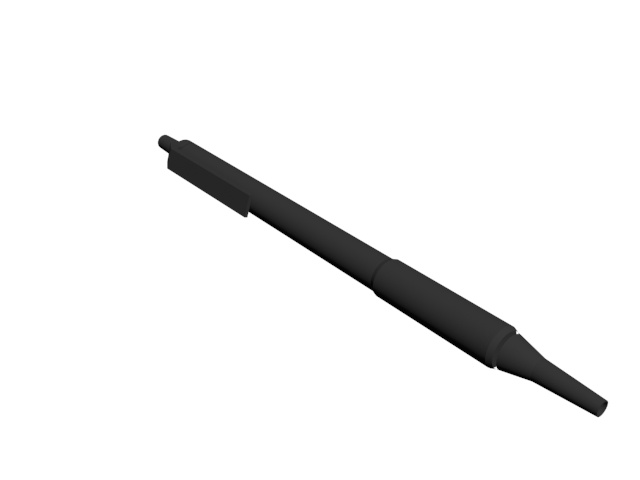pen: (153, 129, 616, 424)
